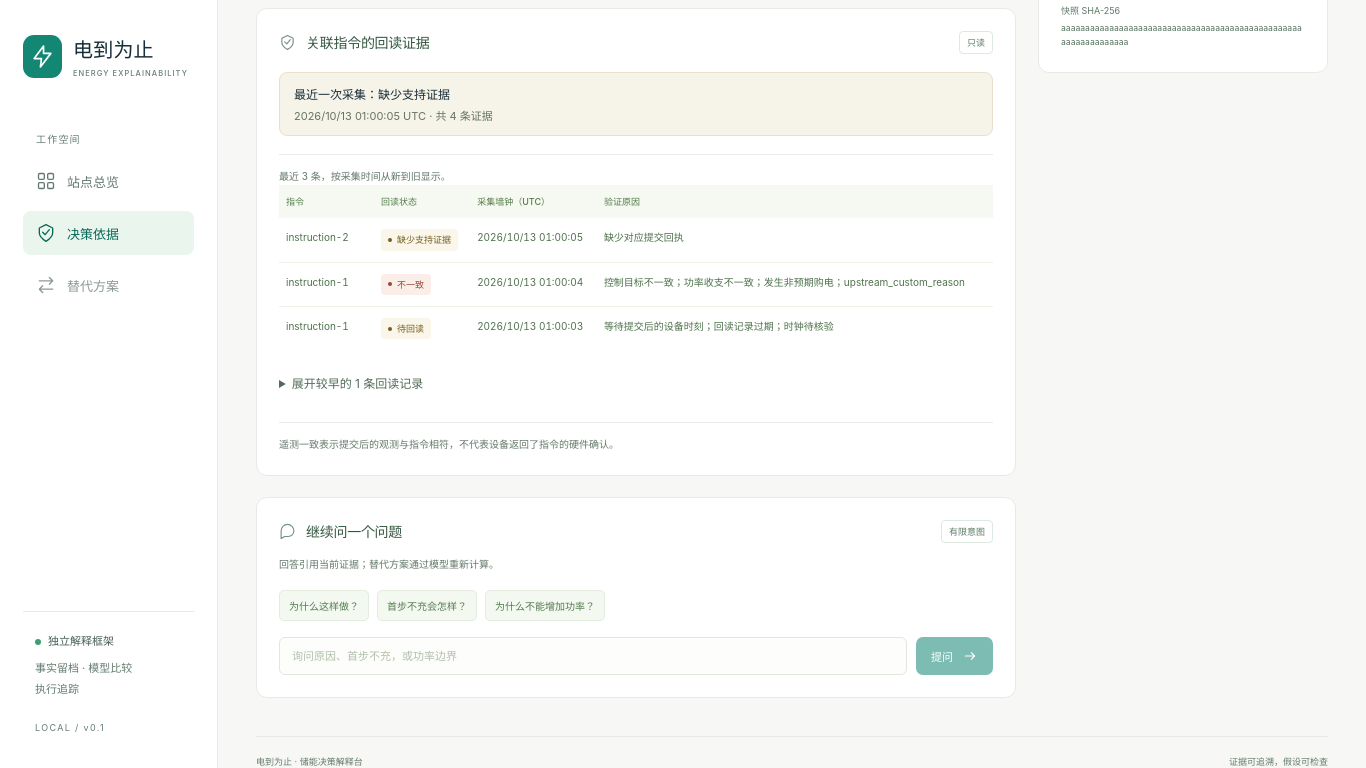
Scenario: 储能解释用户流程 › 详情只读展示回读判定及中文原因，不将unsupported伪装为确认
This screenshot has width=1366, height=768.
(page scrolled)
Expected: the text "最近一次采集：缺少支持证据" is shown, 294,87 -> 450,102
Click the heading "展开较早的 1 条回读记录" at (358, 384), box 292,376 -> 423,391
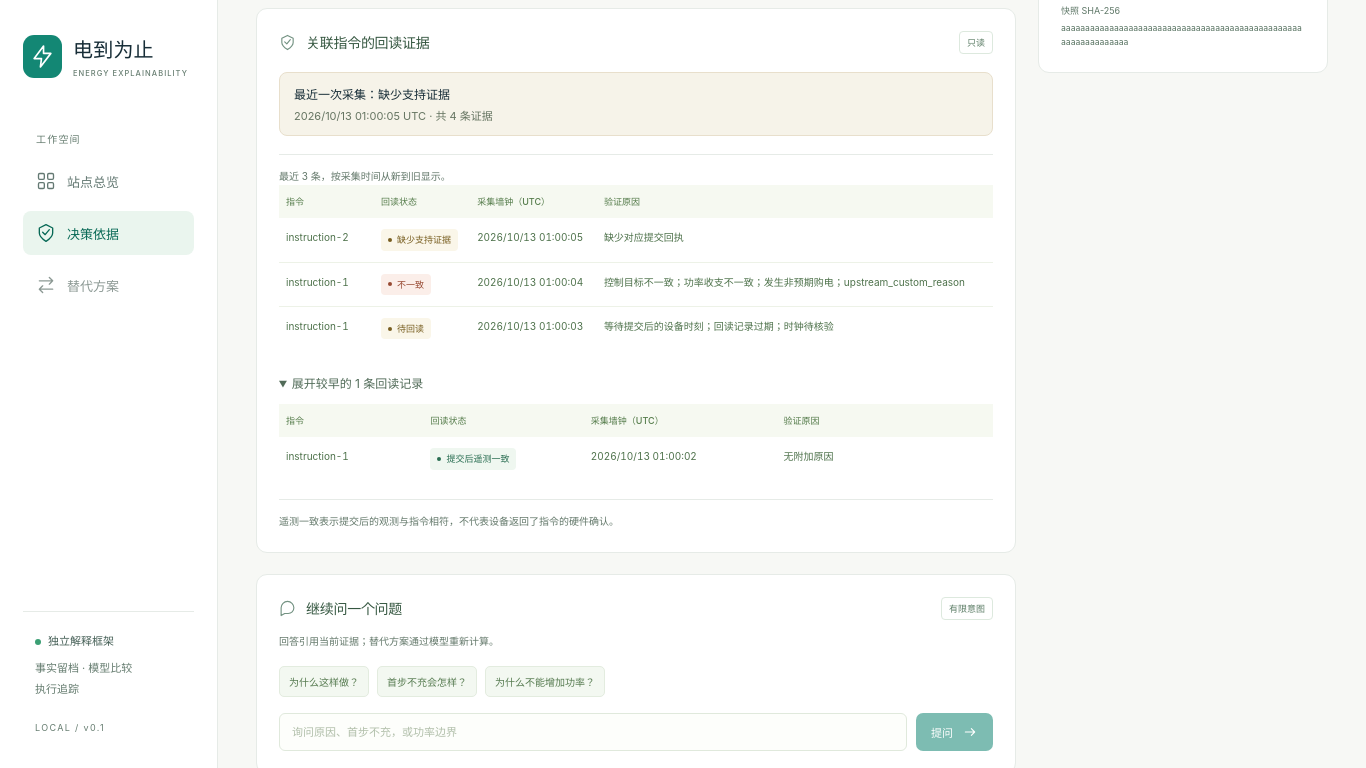
Expected: the text "待回读" is shown, 381,318 -> 431,339
Expected: the text "提交后遥测一致" is shown, 430,448 -> 516,470
